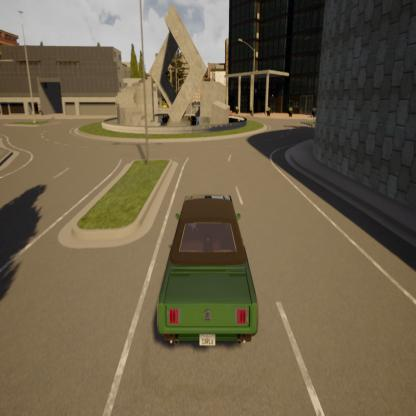Cars: (154, 188, 260, 353)
